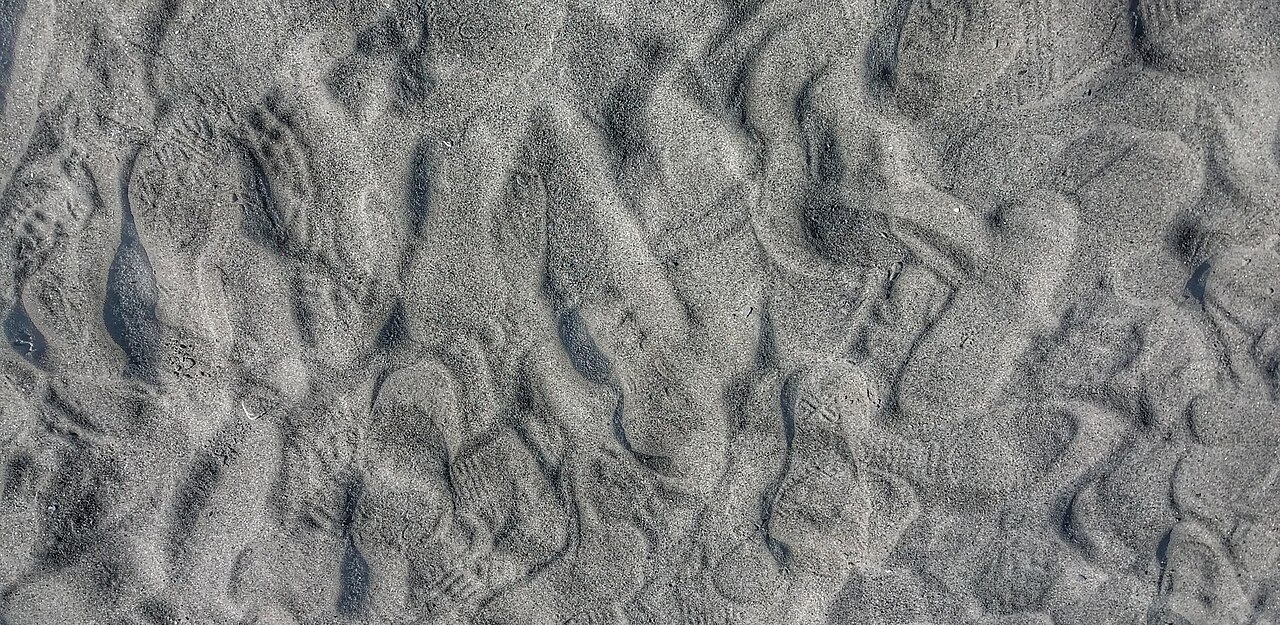human_foot_print: (372, 358, 569, 621), (232, 97, 384, 368), (126, 89, 240, 418), (0, 98, 109, 367), (765, 362, 879, 615), (449, 429, 570, 593), (618, 346, 727, 492), (891, 0, 1026, 117), (234, 103, 322, 259), (1128, 0, 1279, 74)
